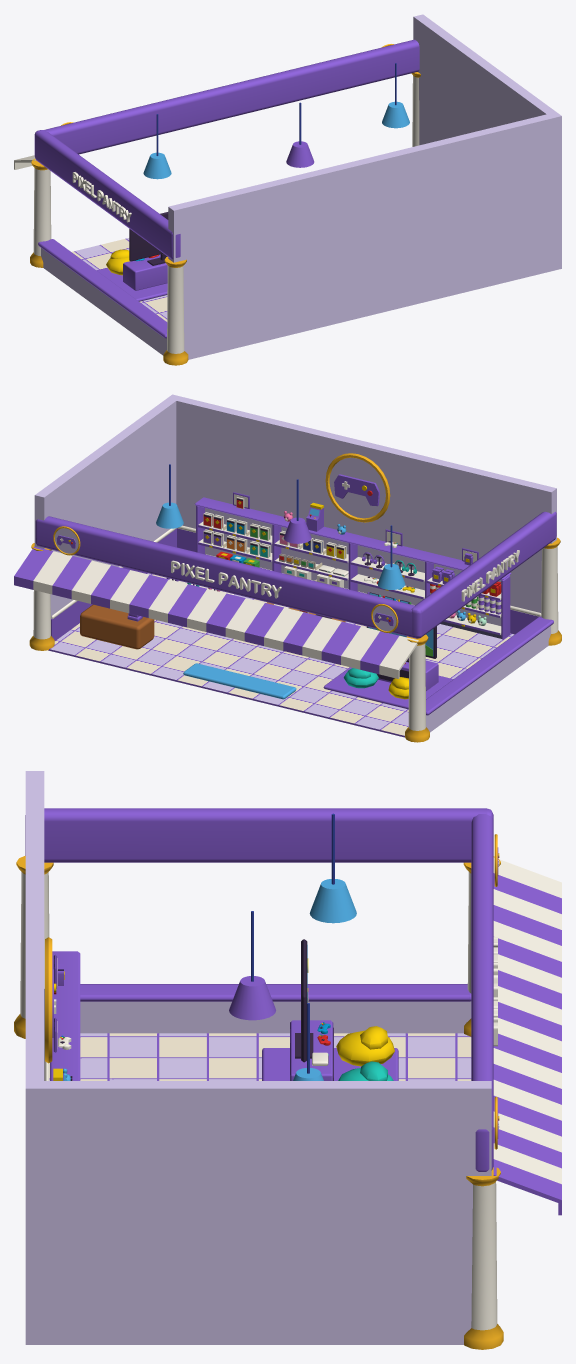
The model's file is pixel_pantry.glb.
The picture shows the model from 3 angles, top to bottom: view 1: azimuth 30°, elevation 25°; view 2: azimuth 150°, elevation 25°; view 3: azimuth 270°, elevation 25°; orthographic projection. The views are drawn at different scales.
Visible parts, largest first — view 1: Shop_Pixel_Back_Wall, Shop_Pixel_Front_Canopy, Shop_Pixel_Shell, Shop_Pixel_Side_Wall, M_Pixel_Demo, Pixel_Demo_Rug, Pixel_Pendant_Shade_1, Pixel_Pendant_Shade_0, Pixel_Pendant_Shade_2; view 2: Shop_Pixel_Back_Wall, Shop_Pixel_Front_Canopy, Shop_Pixel_Shell, M_Pixel_GameWall, Shop_Pixel_Side_Wall, Pixel_Service_Counter, Refined_Pixel_Entry_Mat, Pixel_Demo_Rug, M_Pixel_Demo, Pixel_Pendant_Shade_1, Pixel_Pendant_Shade_2, Pixel_Pendant_Shade_0 (+1 smaller); view 3: Shop_Pixel_Side_Wall, Shop_Pixel_Front_Canopy, Shop_Pixel_Shell, Shop_Pixel_Back_Wall, M_Pixel_GameWall, M_Pixel_Demo, M_Pixel_Beanbag_B, Pixel_Demo_Rug, Pixel_Pendant_Shade_1, Pixel_Pendant_Shade_0, M_Pixel_Beanbag_A.
Boxes of the visible parts, x1,y1,x2,y2 form: Shop_Pixel_Back_Wall: (168,112,561,359); Shop_Pixel_Front_Canopy: (14,39,419,259); Shop_Pixel_Shell: (30,72,420,365); Shop_Pixel_Side_Wall: (413,14,555,145); M_Pixel_Demo: (123,212,168,290); Pixel_Demo_Rug: (97,268,167,301); Pixel_Pendant_Shade_1: (286,141,314,167); Pixel_Pendant_Shade_0: (143,152,171,179); Pixel_Pendant_Shade_2: (382,101,409,128); Shop_Pixel_Back_Wall: (167,394,556,634); Shop_Pixel_Front_Canopy: (14,511,556,678); Shop_Pixel_Shell: (29,537,561,742); M_Pixel_GameWall: (195,492,511,639); Shop_Pixel_Side_Wall: (34,398,176,640); Pixel_Service_Counter: (80,604,154,649); Refined_Pixel_Entry_Mat: (183,663,296,699); Pixel_Demo_Rug: (323,667,453,709); M_Pixel_Demo: (366,626,438,690); Pixel_Pendant_Shade_1: (284,517,311,543); Pixel_Pendant_Shade_2: (156,502,183,528); Pixel_Pendant_Shade_0: (377,563,405,589); Shop_Pixel_Side_Wall: (44,1081,491,1344); Shop_Pixel_Front_Canopy: (25,808,561,1215); Shop_Pixel_Shell: (14,856,503,1349); Shop_Pixel_Back_Wall: (25,771,56,1344); M_Pixel_GameWall: (50,951,80,1080); M_Pixel_Demo: (290,939,333,1080); M_Pixel_Beanbag_B: (336,1026,394,1066); Pixel_Demo_Rug: (262,1048,398,1080); Pixel_Pendant_Shade_1: (229,976,275,1020); Pixel_Pendant_Shade_0: (309,879,356,923); M_Pixel_Beanbag_A: (338,1061,393,1080).
Size of the model in its own units: 12.48 by 4.89 by 8.82.
23 materials, 1 textured.
